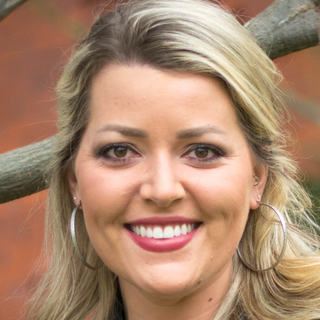eye: (92, 138, 147, 167), (176, 141, 232, 168)
